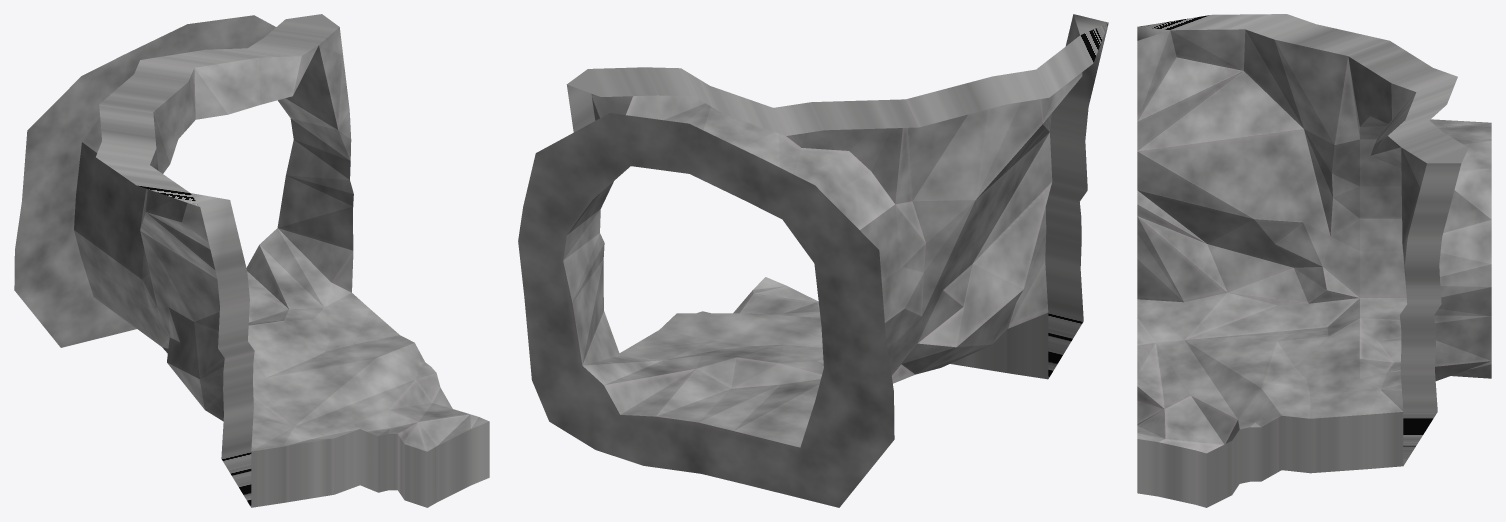
The model's file is CornerFloor1Replacer1.gltf.
3 views of the same model, side by side, from view 1: azimuth 30°, elevation 25°; view 2: azimuth 150°, elevation 25°; view 3: azimuth 270°, elevation 25° (orthographic). The views are drawn at different scales.
Parts seen in each view (by area): view 1: CornerFloor1Replacer1; view 2: CornerFloor1Replacer1; view 3: CornerFloor1Replacer1.
Part boxes in pixels (x1=…): CornerFloor1Replacer1: x1=14, y1=14, x2=489, y2=507; CornerFloor1Replacer1: x1=518, y1=14, x2=1108, y2=507; CornerFloor1Replacer1: x1=1137, y1=14, x2=1491, y2=507.
Bounding box in the file's own units: 5.39 × 5.47 × 5.
1 material, 1 textured.
